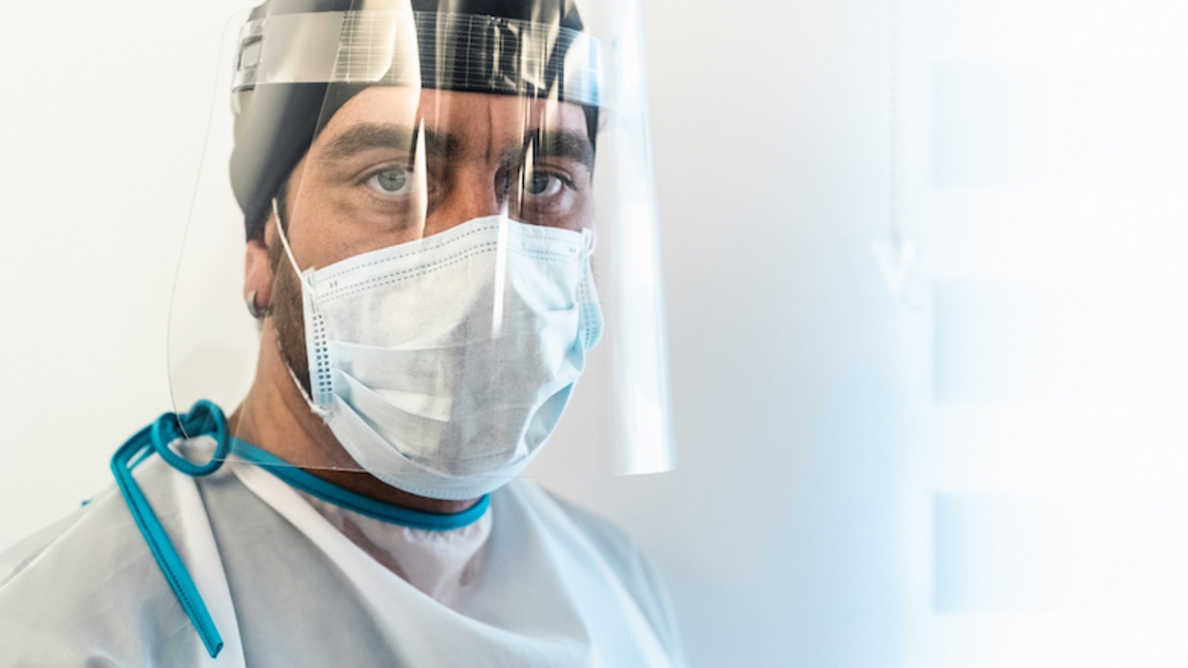Coverall: (2, 418, 688, 668)
Face_Shield: (164, 2, 684, 484)
with_mask: (304, 151, 609, 500)
